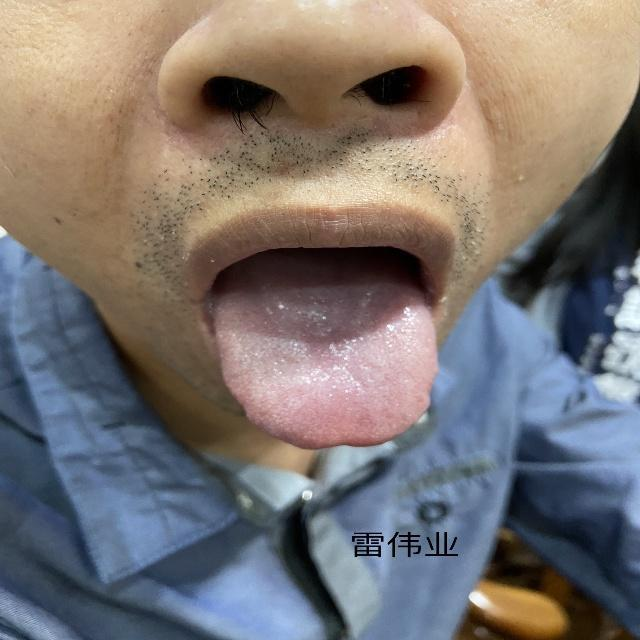baitaishe: (213, 286, 440, 450)
chihenshe: (424, 368, 440, 411)
